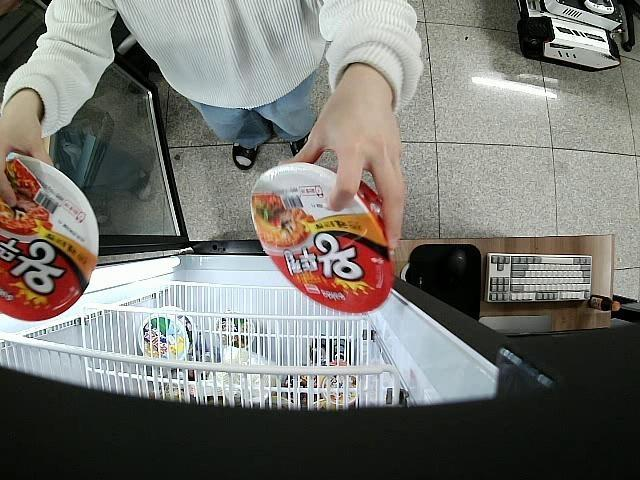10_wangTtukkeong: (251, 160, 390, 314), (0, 150, 97, 320)
